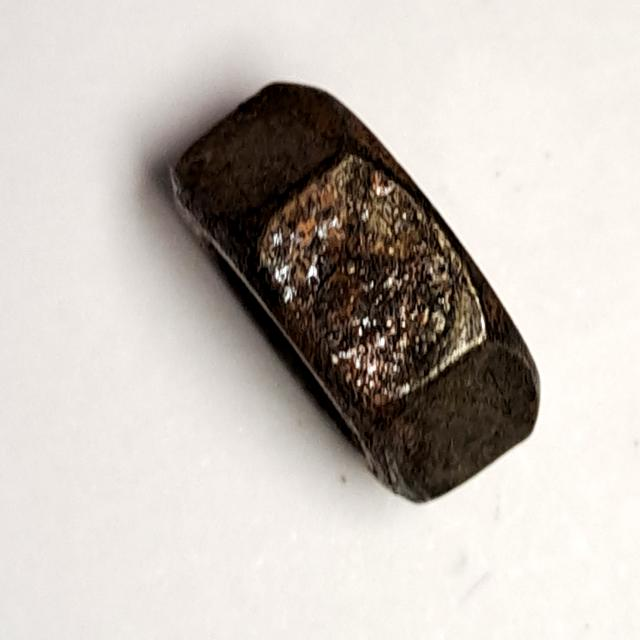Side_Rust: (145, 68, 564, 514)
